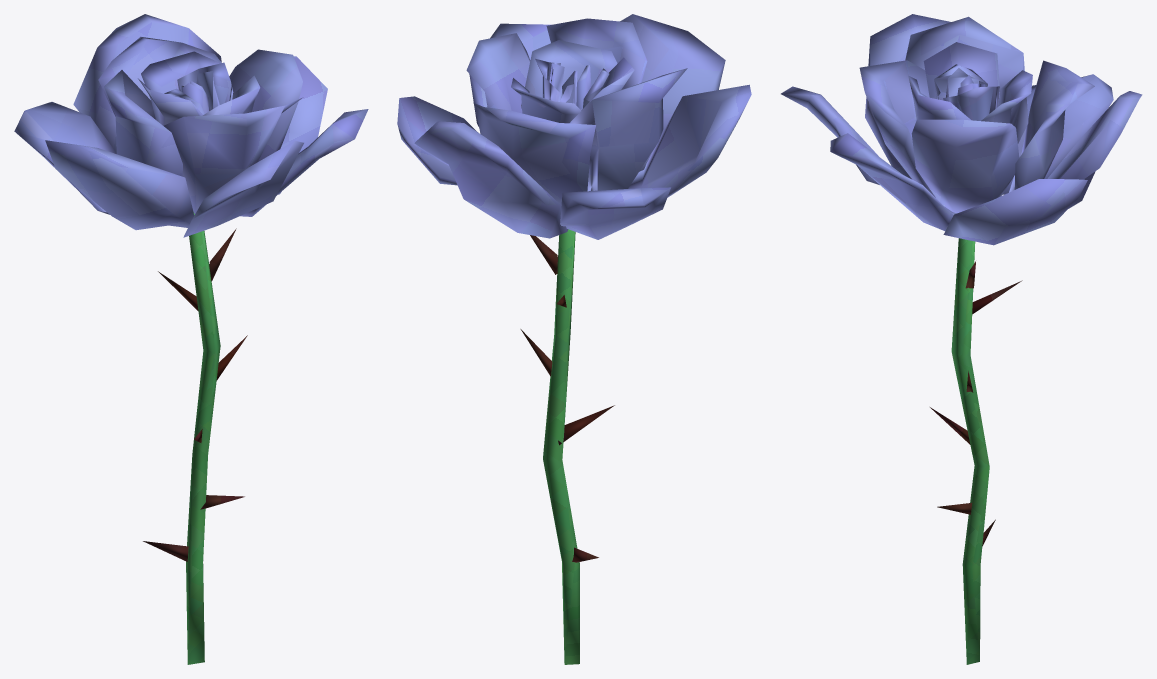
The model's file is blue_rose.fbx.
3 views of the same model, side by side, from view 1: azimuth 30°, elevation 25°; view 2: azimuth 150°, elevation 25°; view 3: azimuth 270°, elevation 25° (orthographic).
Visible parts, largest first — view 1: blue_rose; view 2: blue_rose; view 3: blue_rose.
Part boxes in pixels (bbox=[...]): blue_rose: bbox=[14, 14, 368, 664]; blue_rose: bbox=[397, 14, 751, 664]; blue_rose: bbox=[781, 14, 1142, 664].
Size of the model in its own units: 26.1 by 50.48 by 27.65.
